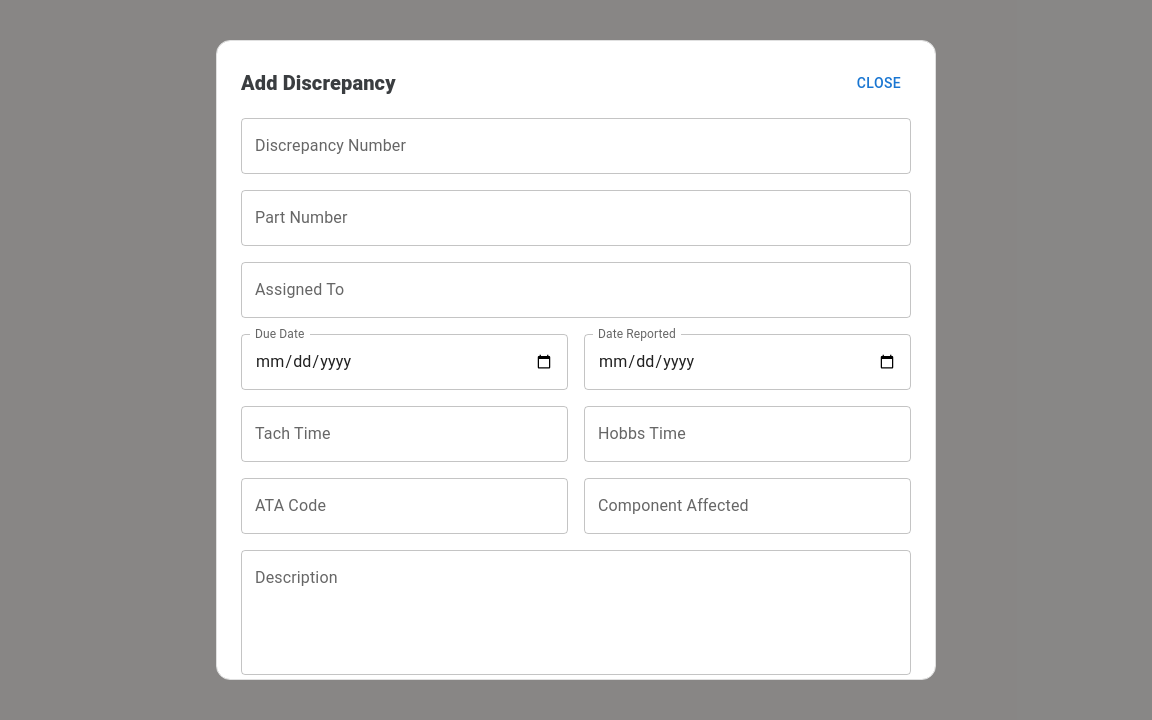
Test: AddDiscrepancyForm › Form Validation › should show error for missing assigned to field
This screenshot has width=1152, height=720.
Type "DISC-001" into the field labelled "Discrepancy Number" at [576, 146], box [241,118,911,174]
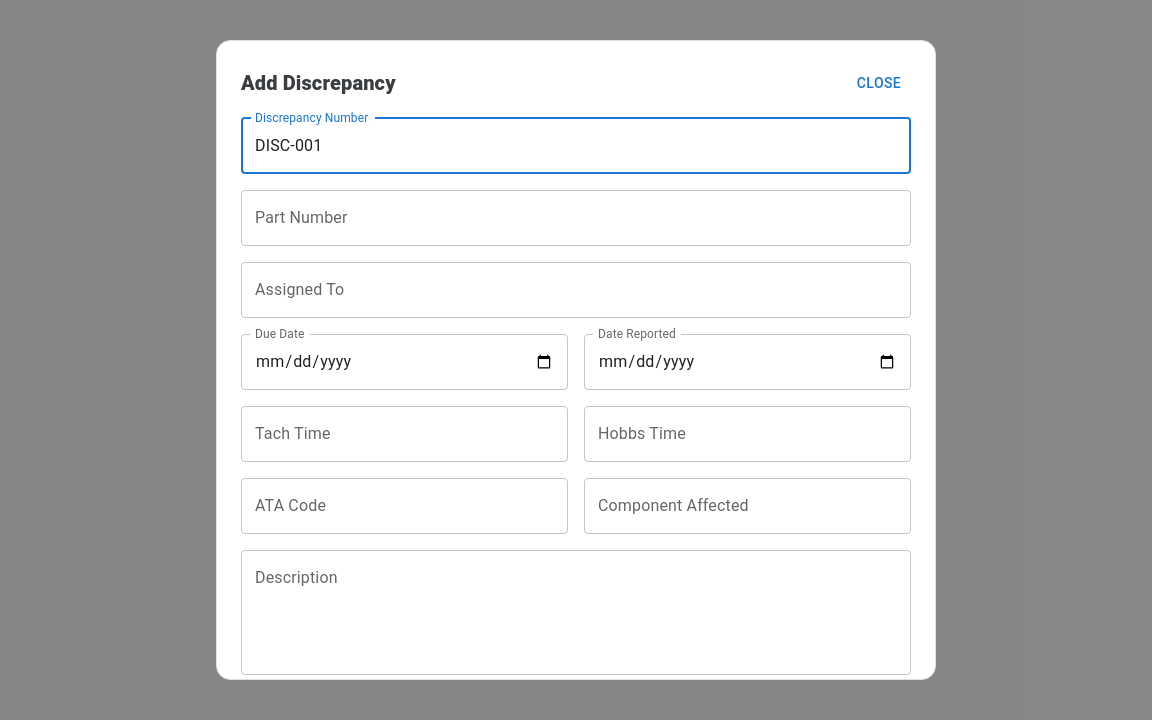
Type "PN-12345" into the field labelled "Part Number" at [576, 218], box [241,190,911,246]
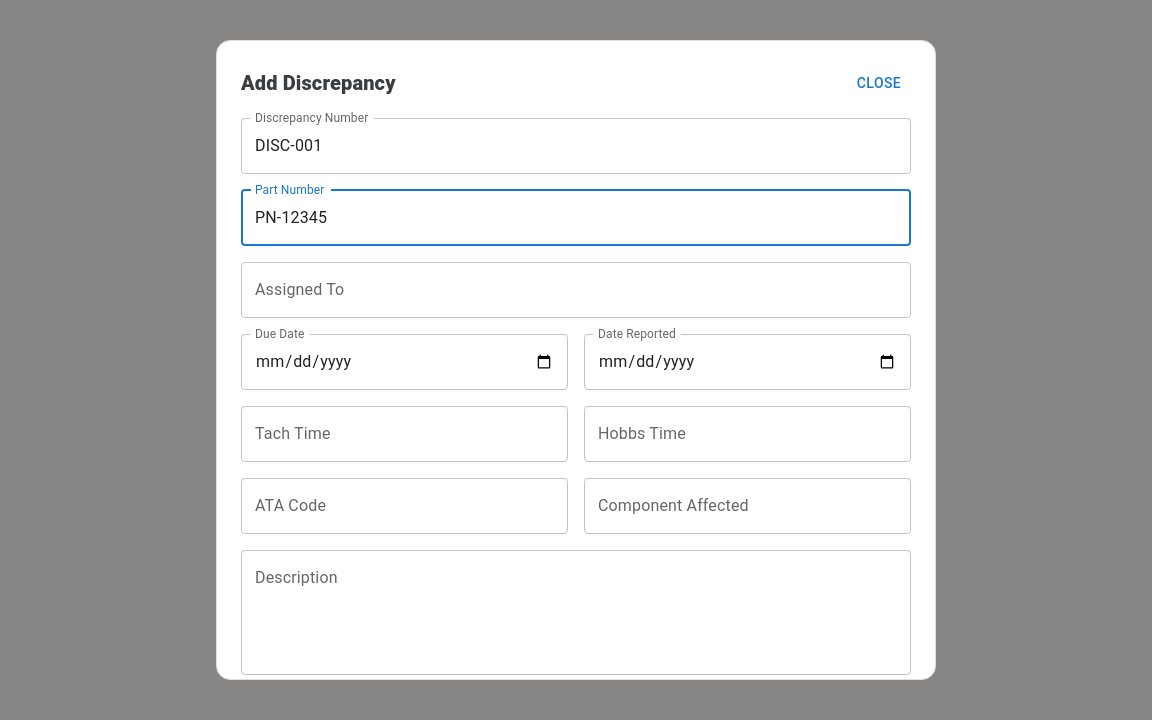
Type "Test description" into the text box labelled "Description" at [576, 612], box [255,566,897,658]
(page scrolled)
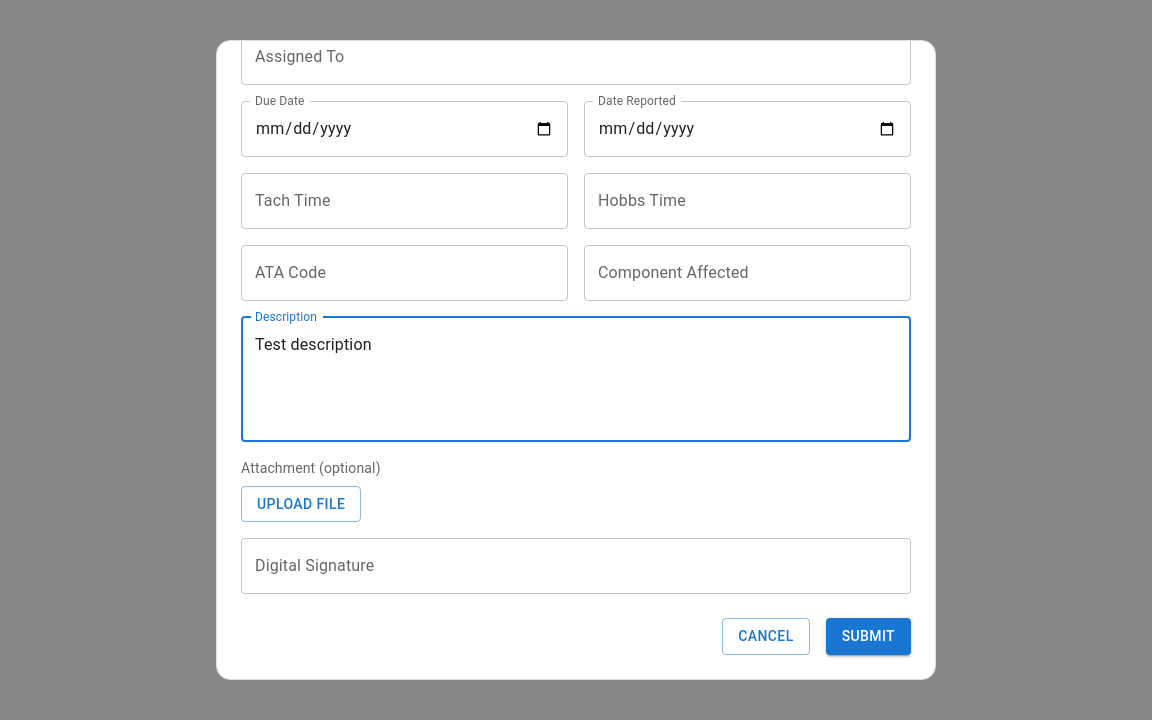
Click the button "Submit" at [868, 636], box [826,618,911,654]
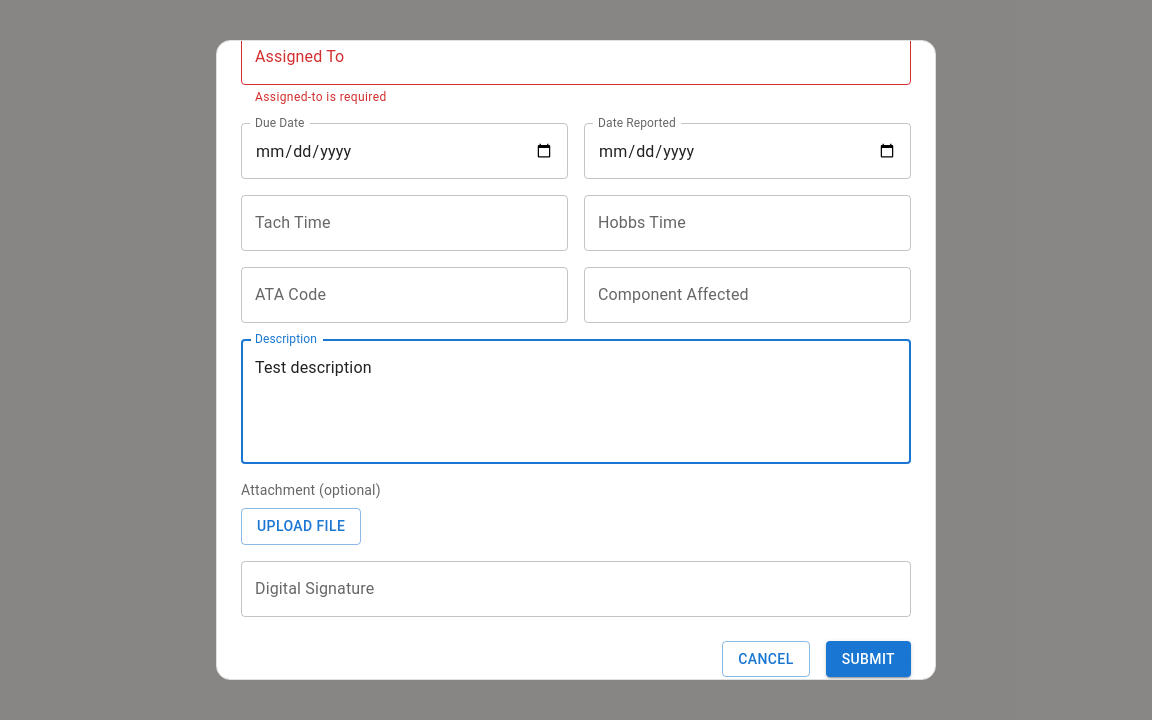
Check: the text "Assigned-to is required" is shown, box [255,90,387,104]
